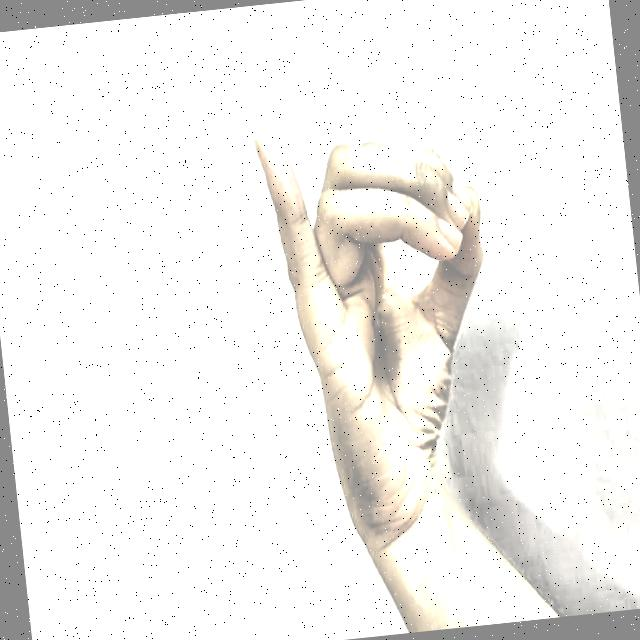Ou: (235, 74, 535, 566)
